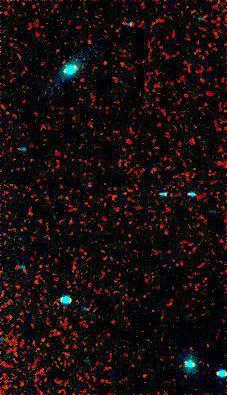star: (74, 169, 104, 199)
